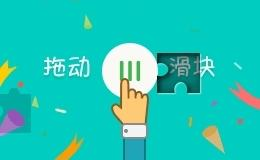target: (135, 31, 178, 73)
